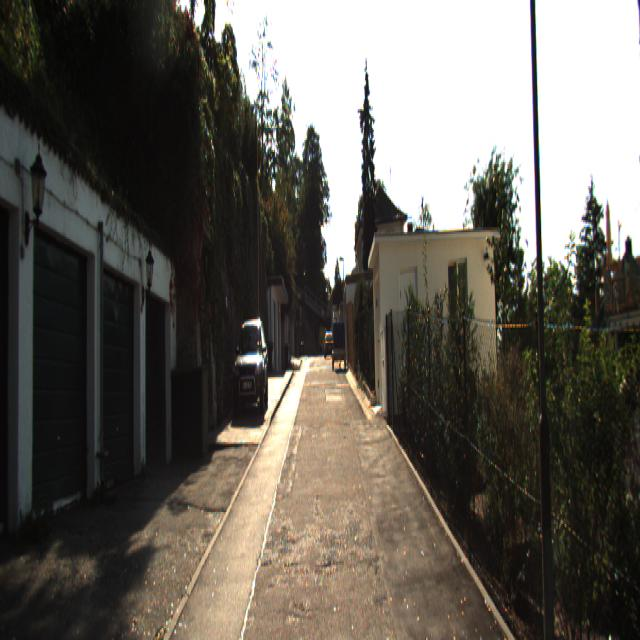Car: (232, 321, 269, 416), (332, 320, 347, 371)
